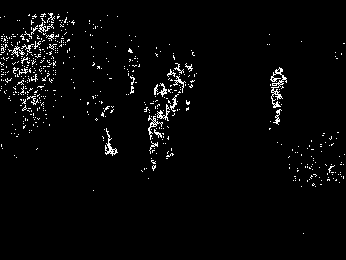person: (83, 94, 122, 156), (148, 82, 175, 170), (271, 65, 288, 124), (125, 49, 144, 91), (182, 61, 196, 111), (169, 63, 182, 111)
